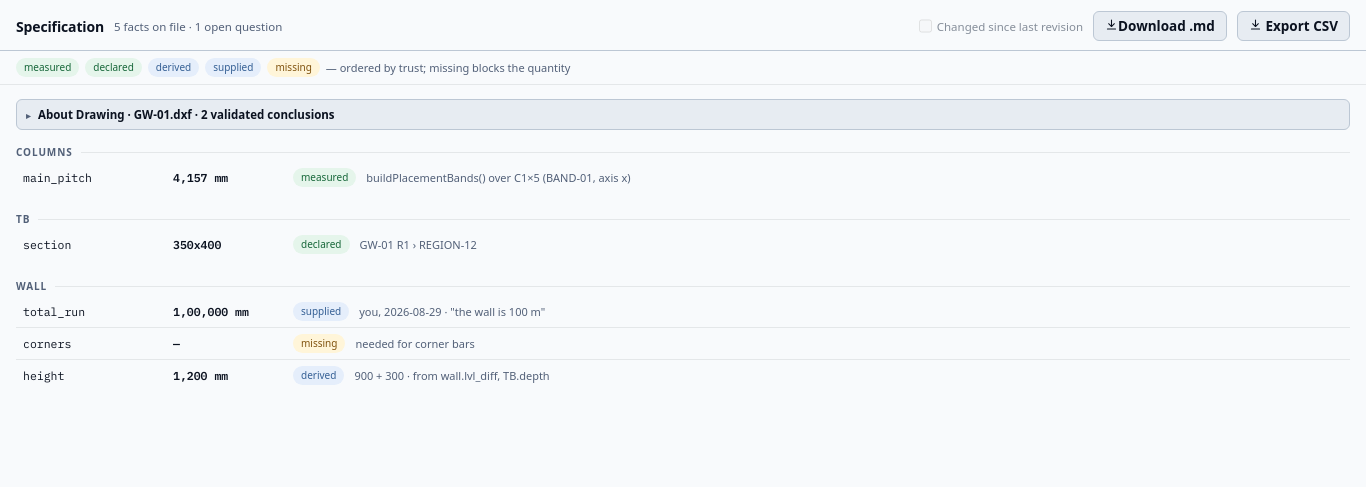
Test: rows and chips (§4.3) › shows the persistent About Drawing reading and its section notes
Check: the element with test id "about-drawing" shows "GW-01.dxf", box [134,107,192,122]
Check: the element with test id "about-drawing" shows "2 validated conclusions", box [16,99,1350,130]
Click the heading "About Drawing · GW-01.dxf · 2 validated conclusions" at (186, 114), box [38,107,334,122]
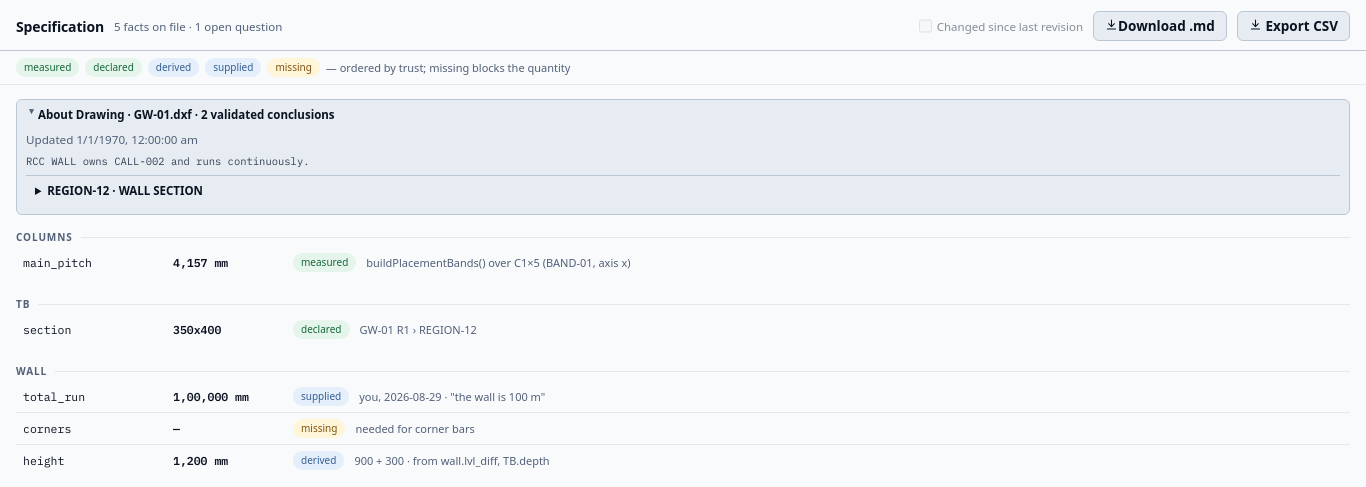
Check: the element with test id "about-drawing" shows "RCC WALL owns CALL-002", box [26,154,310,168]
Check: the element with test id "about-drawing" shows "REGION-12", box [47,183,109,198]
